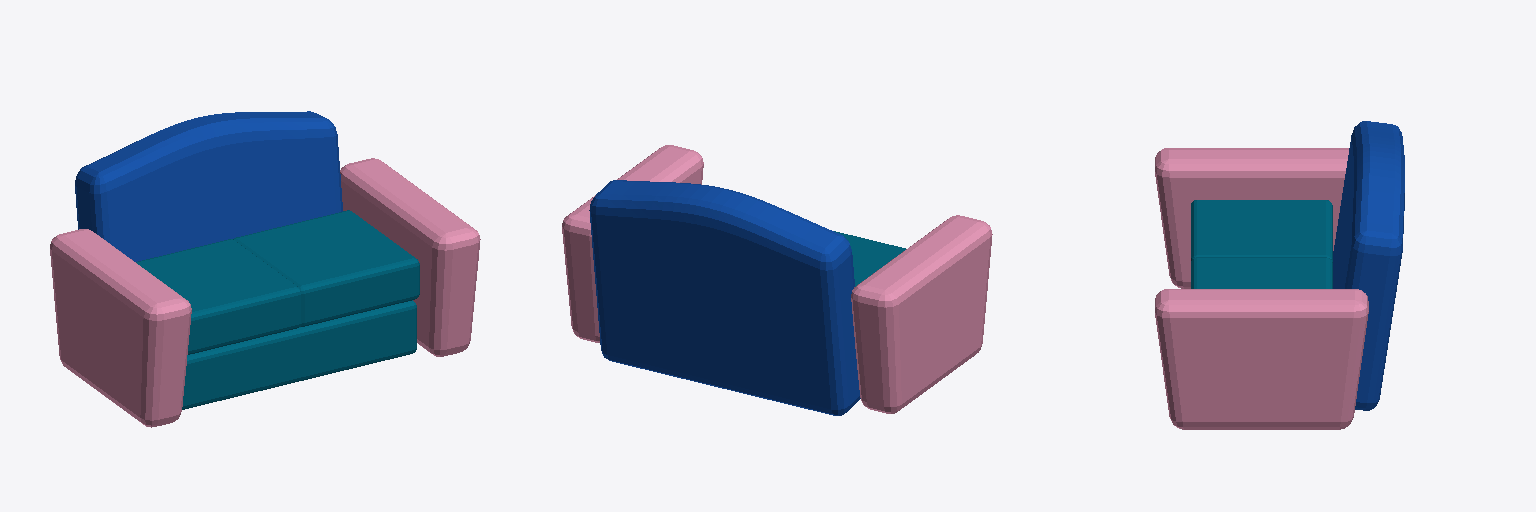
File: mycouch.obj
3 renders of one model, left to right at view 1: azimuth 30°, elevation 25°; view 2: azimuth 150°, elevation 25°; view 3: azimuth 270°, elevation 25°, orthographic.
Visible parts, largest first — view 1: ChamferBox002, ChamferBox003, ChamferBox004, ChamferBox006, ChamferBox001, ChamferBox005; view 2: ChamferBox002, ChamferBox003, ChamferBox004, ChamferBox005; view 3: ChamferBox004, ChamferBox002, ChamferBox003, ChamferBox005, ChamferBox006.
Part boxes in pixels (x1,y1,x2,y2): ChamferBox002: (75, 111, 342, 261); ChamferBox003: (50, 229, 191, 427); ChamferBox004: (340, 158, 480, 356); ChamferBox006: (233, 210, 419, 326); ChamferBox001: (182, 300, 416, 409); ChamferBox005: (136, 239, 300, 354); ChamferBox002: (589, 180, 860, 415); ChamferBox003: (851, 215, 992, 413); ChamferBox004: (562, 145, 703, 342); ChamferBox005: (834, 231, 905, 286); ChamferBox004: (1155, 289, 1368, 429); ChamferBox002: (1333, 121, 1404, 410); ChamferBox003: (1155, 148, 1348, 288); ChamferBox005: (1191, 200, 1332, 262); ChamferBox006: (1191, 257, 1332, 288).
Size of the model in its own units: 11.21 by 6.37 by 7.26.